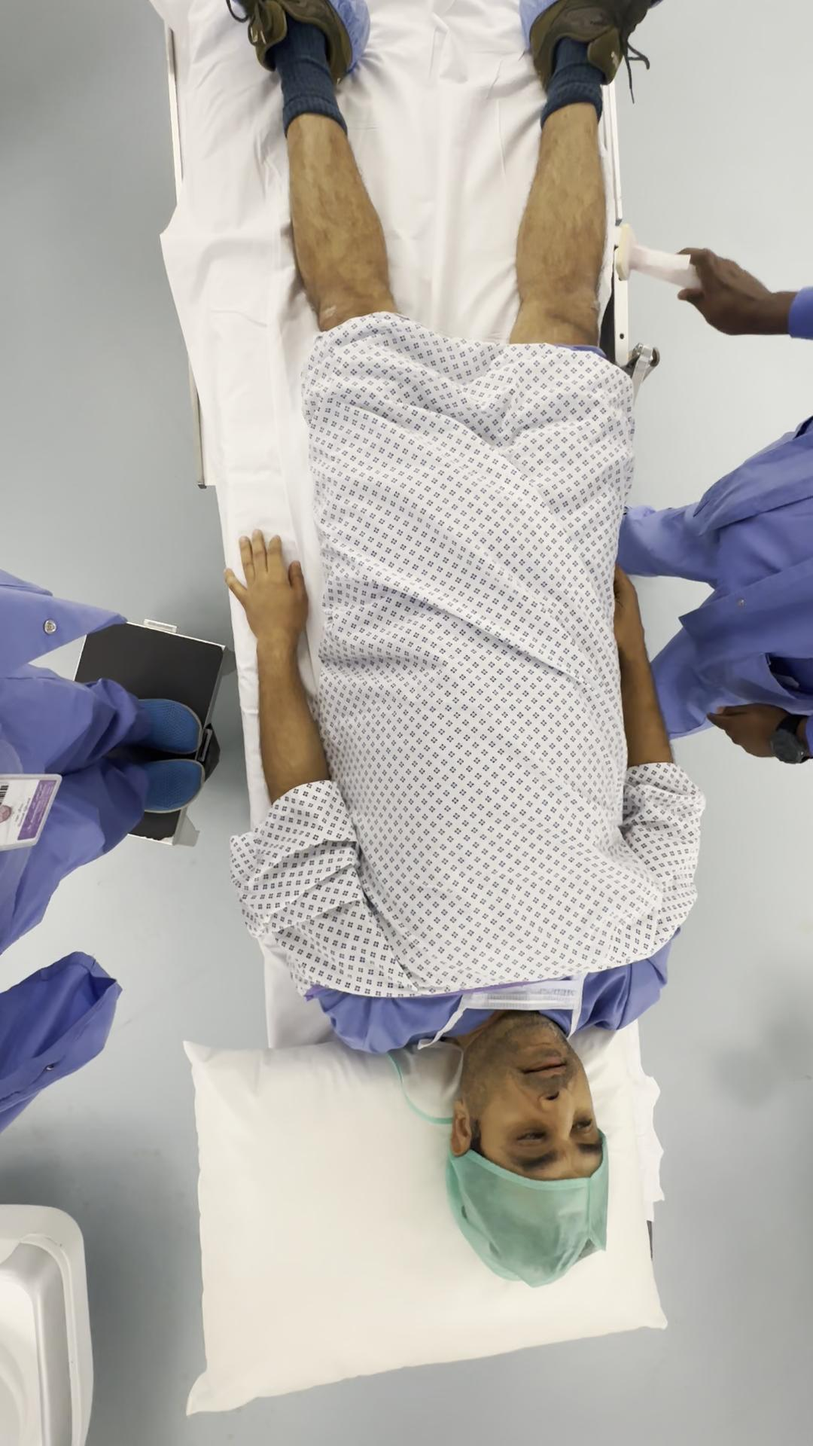bed: (155, 0, 703, 1412)
patient: (226, 0, 703, 1286)
prepstick: (615, 223, 700, 288)
